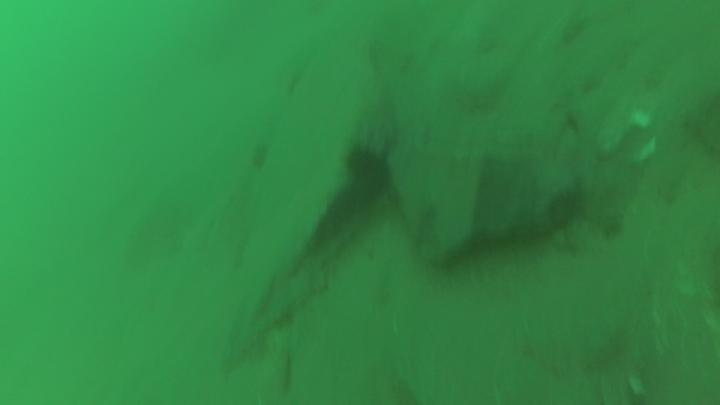echinus: (343, 142, 380, 188)
